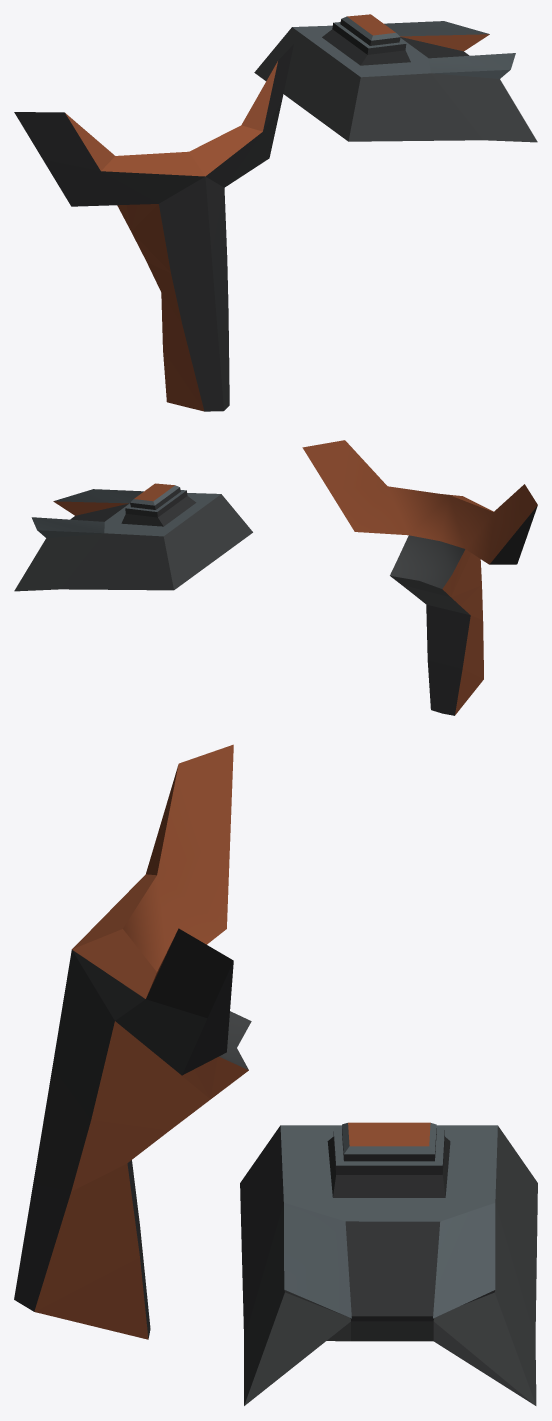
Rendered from Health Upgrade #1.fbx.
3 renders of one model, top to bottom at view 1: azimuth 30°, elevation 25°; view 2: azimuth 150°, elevation 25°; view 3: azimuth 270°, elevation 25°, orthographic. The views are drawn at different scales.
Parts seen in each view (by area): view 1: Health Upgrade #1.001, Health Upgrade #1; view 2: Health Upgrade #1.001, Health Upgrade #1; view 3: Health Upgrade #1.001, Health Upgrade #1.
Part boxes in pixels (<box>): Health Upgrade #1.001: <box>14,44,293,411</box>; Health Upgrade #1: <box>254,14,537,142</box>; Health Upgrade #1.001: <box>302,440,537,715</box>; Health Upgrade #1: <box>14,483,252,591</box>; Health Upgrade #1.001: <box>14,744,251,1339</box>; Health Upgrade #1: <box>240,1122,537,1405</box>.
Size of the model in its own units: 327 by 177 by 174.
